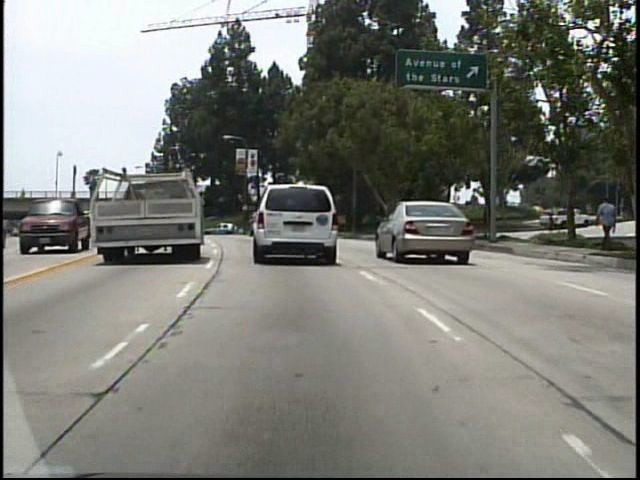person: (590, 191, 614, 256), (17, 185, 28, 204)
